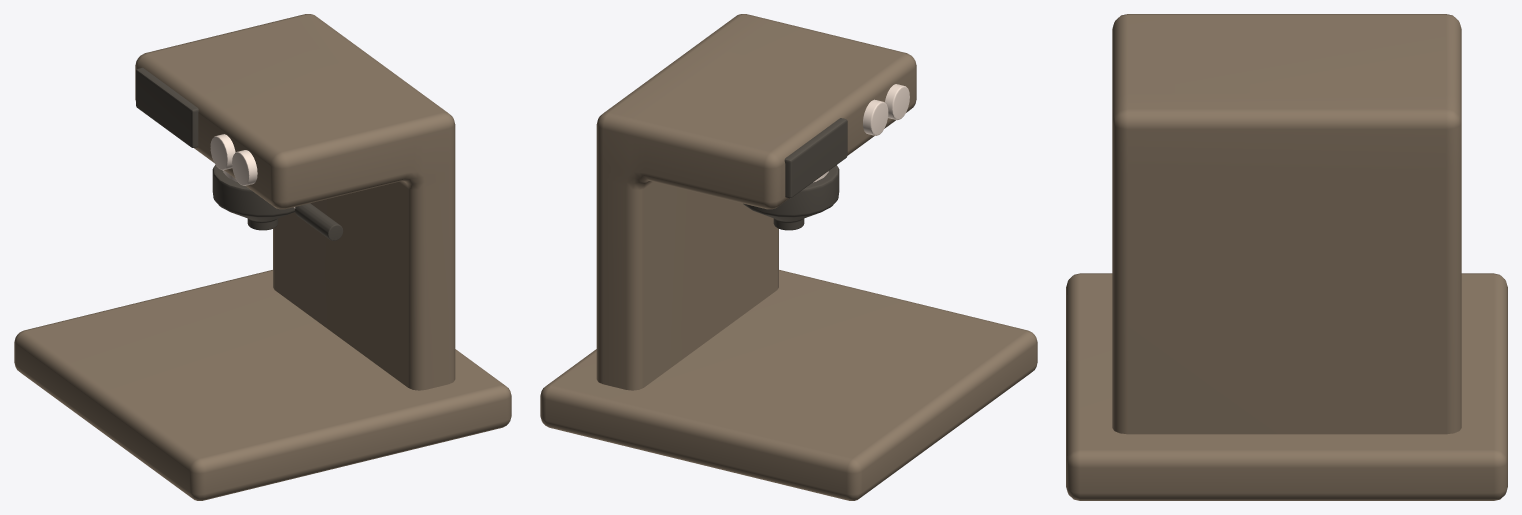
The model's file is CoffeeMachine.fbx.
3 views of the same model, side by side, from view 1: azimuth 30°, elevation 25°; view 2: azimuth 150°, elevation 25°; view 3: azimuth 270°, elevation 25° (orthographic). The views are drawn at different scales.
Visible parts, largest first — view 1: polySurface858; view 2: polySurface858; view 3: polySurface858.
Part boxes in pixels (x1=…): polySurface858: x1=14, y1=14, x2=511, y2=500; polySurface858: x1=540, y1=14, x2=1037, y2=500; polySurface858: x1=1066, y1=14, x2=1507, y2=500.
Size of the model in its own units: 51.27 by 47.24 by 51.27.
